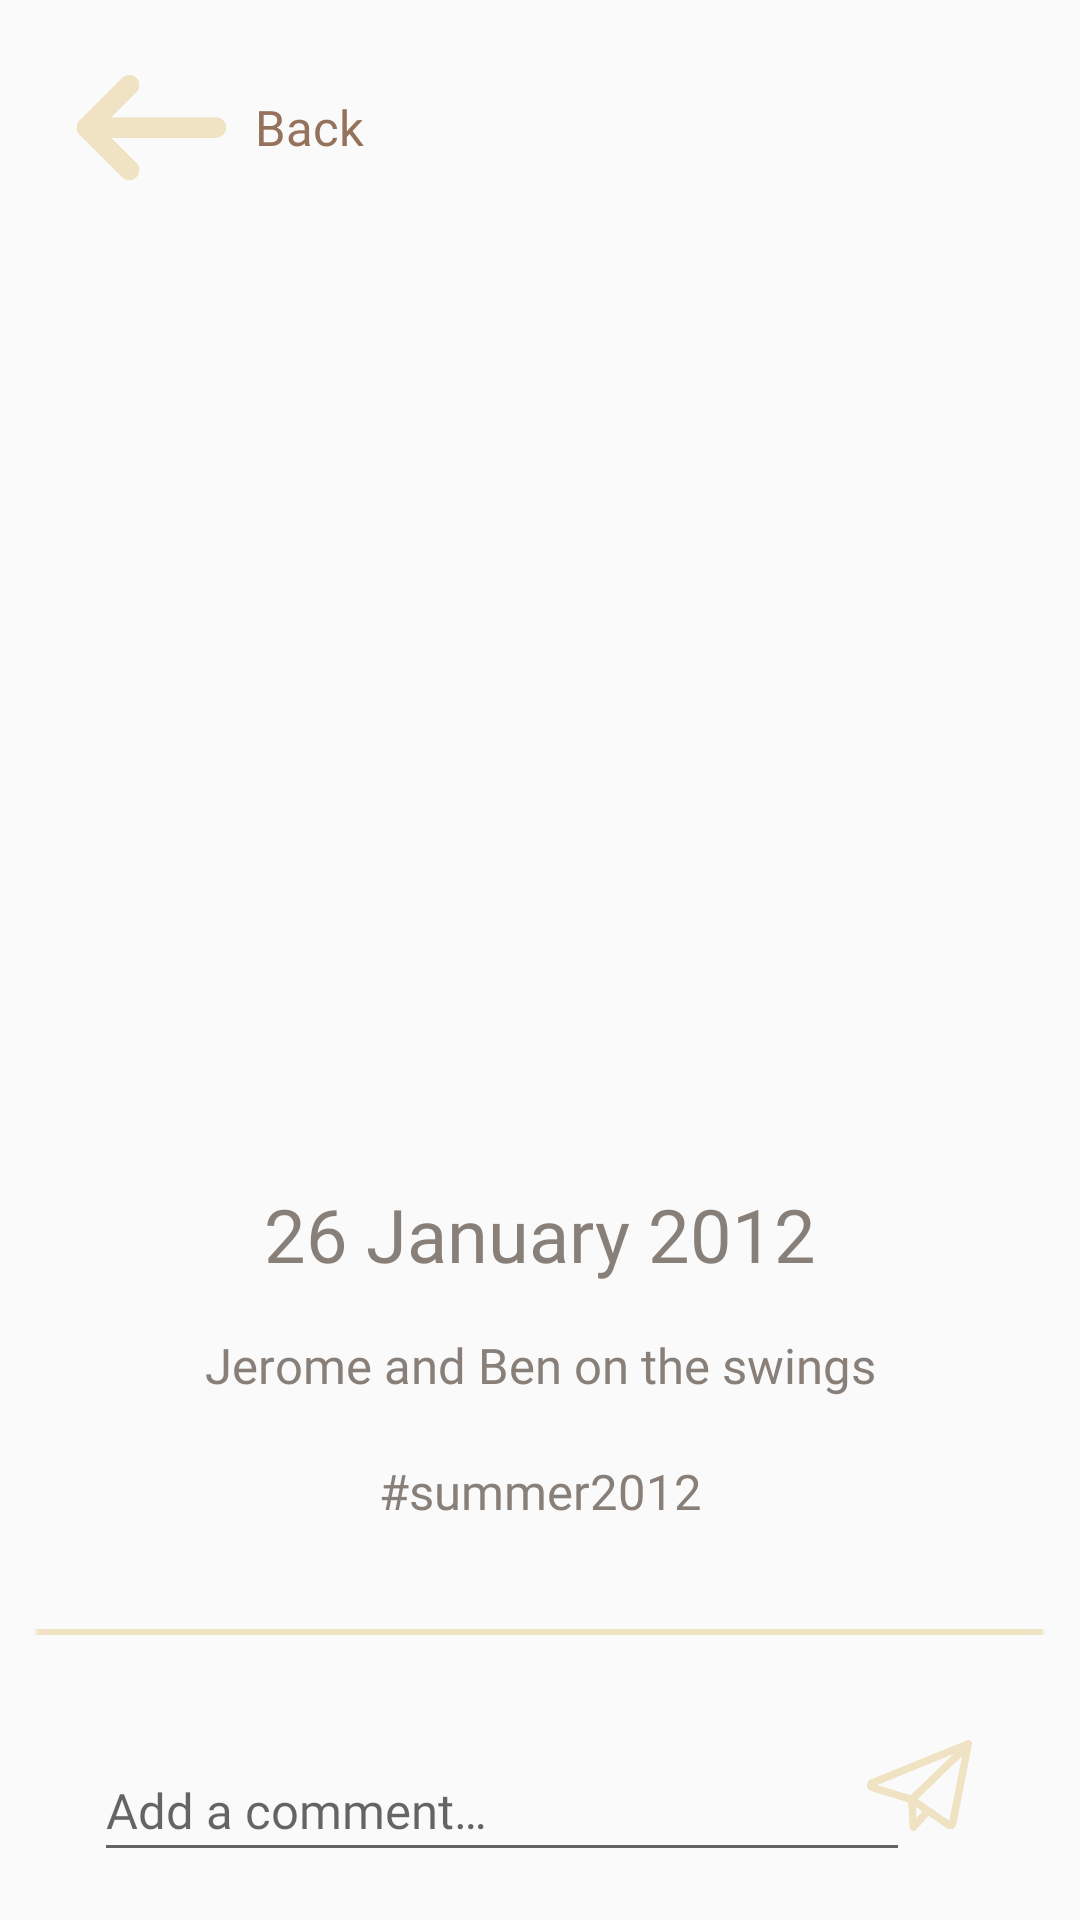

Screen size 1080px×1920px. Icon name, then its center in pixels as [x,y]:
send: [919,1785]
